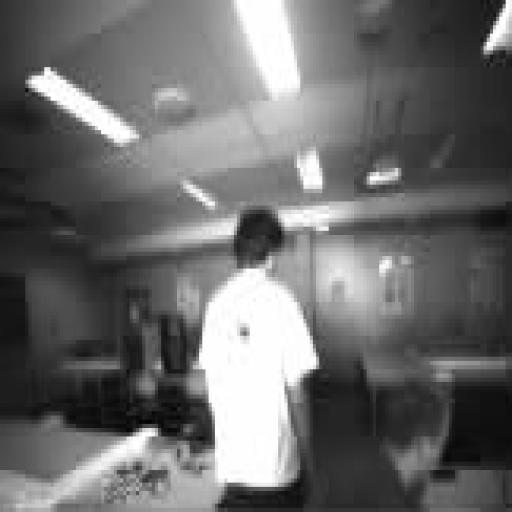human: (200, 206, 319, 511), (310, 378, 451, 511)
